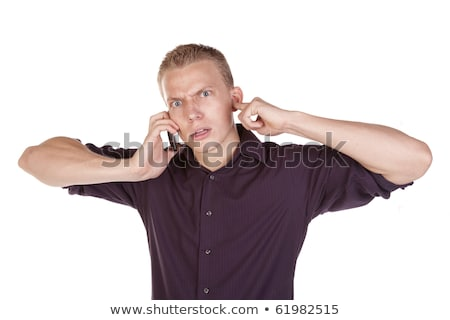phone: (157, 108, 184, 150)
talk: (134, 83, 234, 176)
